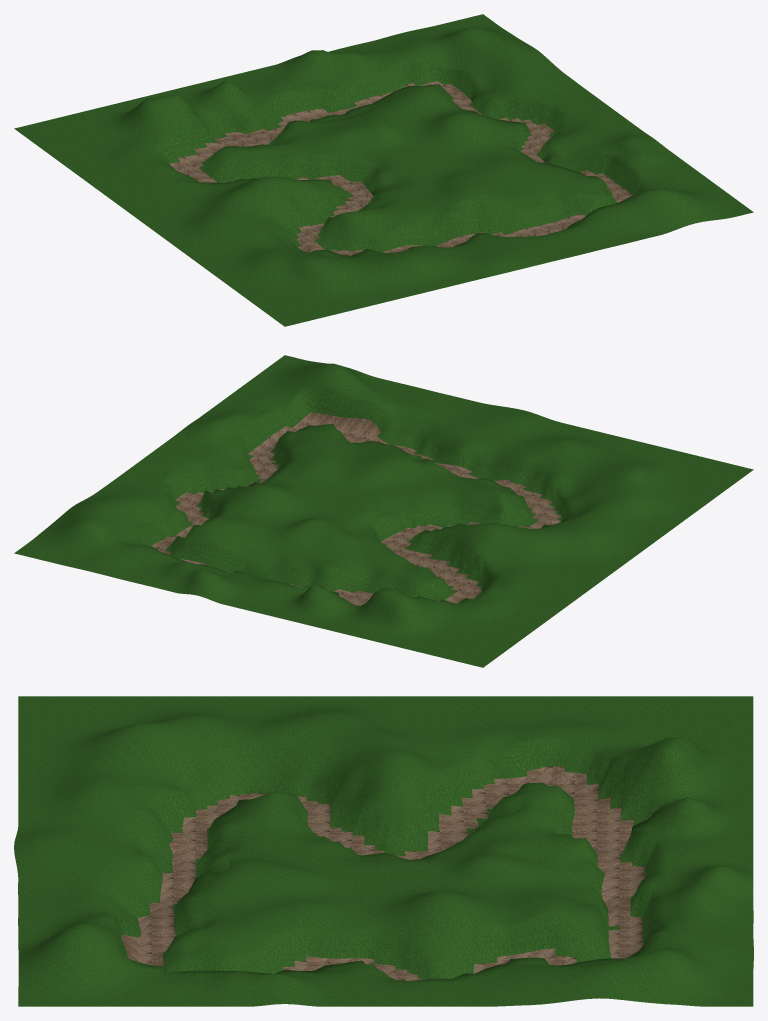
Rendered from bosque_camino01.fbx.
3 views of the same model, one above another, from view 1: azimuth 30°, elevation 25°; view 2: azimuth 150°, elevation 25°; view 3: azimuth 270°, elevation 25° (orthographic). The views are drawn at different scales.
Visible parts, largest first — view 1: Plano; view 2: Plano; view 3: Plano.
Boxes of the visible parts, x1,y1,x2,y2 form: Plano: (14, 14, 753, 326); Plano: (14, 355, 753, 667); Plano: (14, 696, 753, 1006).
Bounding box in the file's own units: 400 × 37.76 × 403.
2 materials, 2 textured.
